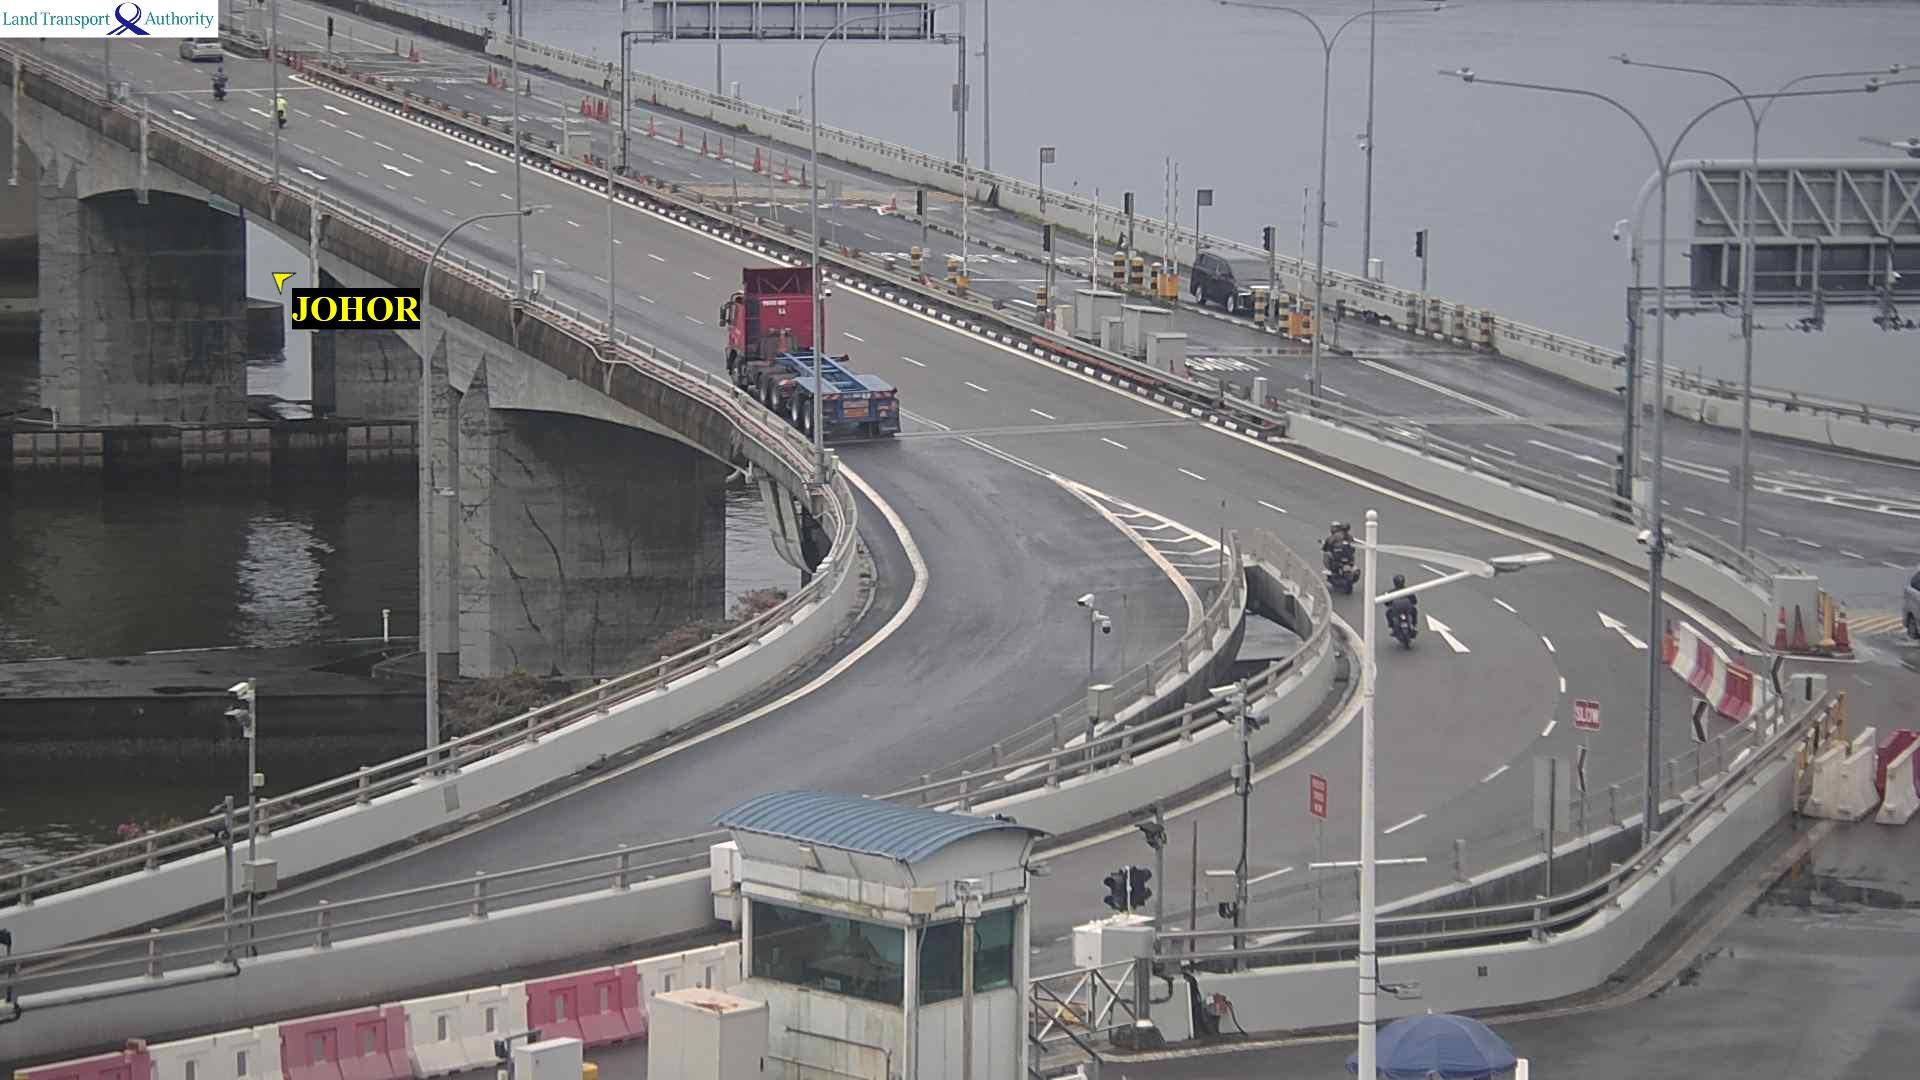vehicle-secondlink-johor: (740, 347, 914, 439), (1379, 576, 1419, 647), (1325, 521, 1365, 588), (208, 71, 229, 98)
vehicle-secondlink-singapore: (1874, 289, 1920, 331)
